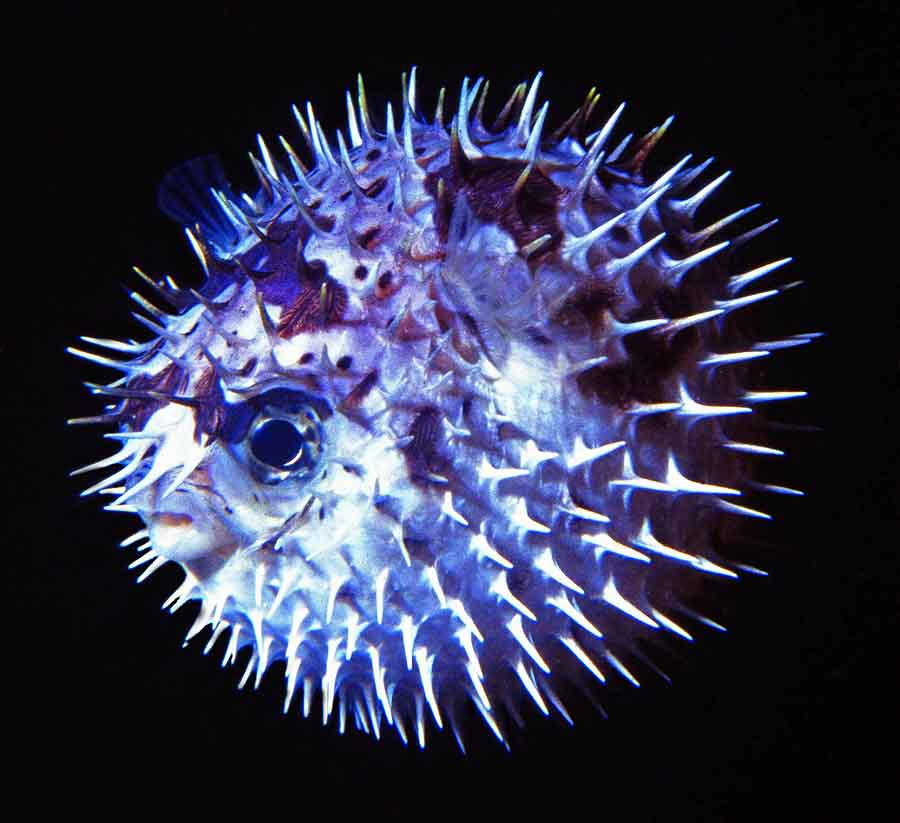Diodon_holocanthus: (36, 52, 866, 769)
